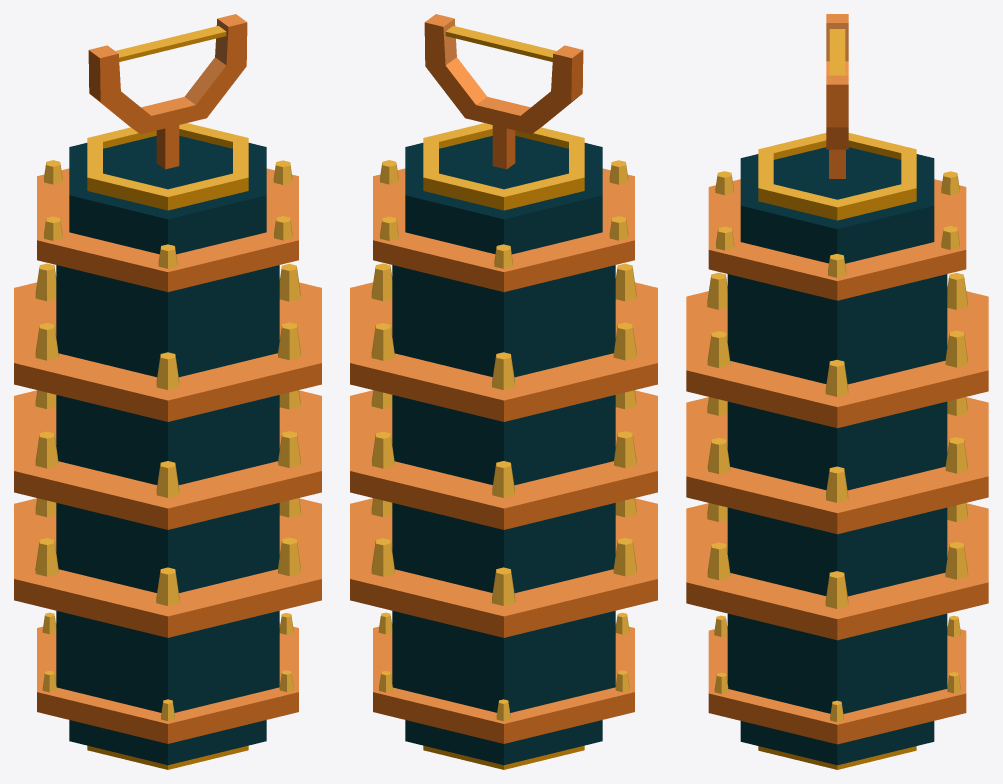
Rendered from Charger_01.glb.
The picture shows the model from 3 angles, left to right: view 1: azimuth 30°, elevation 25°; view 2: azimuth 150°, elevation 25°; view 3: azimuth 270°, elevation 25°; orthographic projection.
Visible parts, largest first — view 1: Charger_01; view 2: Charger_01; view 3: Charger_01.
Boxes of the visible parts, <box> form: Charger_01: <box>14,14,321,769</box>; Charger_01: <box>350,14,657,769</box>; Charger_01: <box>686,14,988,769</box>.
Size of what is drawn, in the model's own units: 0.9622 by 2.07 by 0.8333.
1 material, 1 textured.
